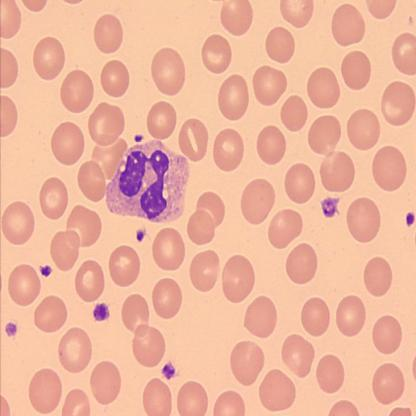Segmented neutrophil: (103, 135, 191, 227)
